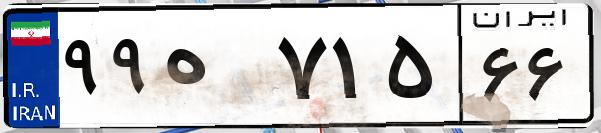1: (330, 28, 385, 110)
5: (385, 28, 445, 110)
6: (475, 38, 525, 113), (525, 38, 570, 115)
7: (270, 28, 330, 110)
9: (57, 26, 110, 100), (110, 28, 158, 98)
ه: (158, 20, 270, 120)
